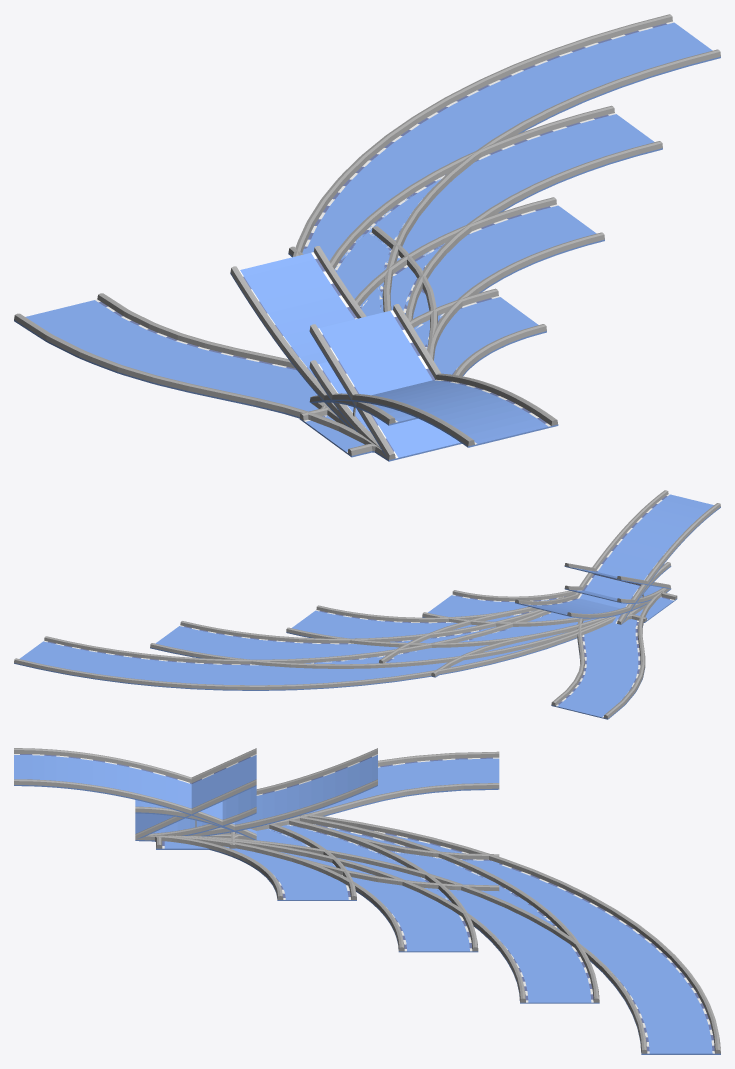
Rendered from road.glb.
3 views of the same model, one above another, from view 1: azimuth 30°, elevation 25°; view 2: azimuth 150°, elevation 25°; view 3: azimuth 270°, elevation 25° (orthographic). The views are drawn at different scales.
Parts seen in each view (by area): view 1: TurnLong3, TurnLong2, TurnSLeft, TurnLong, Slope, SlopeUpLong, SlopeDownLong, TurnShort, TurnSRight, SlopeUp, IntersectionCross, SlopeDown; view 2: TurnLong3, TurnLong2, SlopeDownLong, TurnSLeft, TurnLong, TurnShort, TurnSRight, SlopeUpLong, SlopeUp, Slope; view 3: TurnLong3, TurnLong2, TurnLong, SlopeDownLong, TurnSLeft, SlopeUpLong, TurnShort, Slope, TurnSRight, SlopeUp, SlopeDown.
Boxes of the visible parts, x1,y1,x2,y2 form: TurnLong3: (293, 14, 720, 460); TurnLong2: (329, 105, 662, 458); TurnSLeft: (14, 293, 388, 461); TurnLong: (354, 197, 604, 461); Slope: (309, 304, 459, 459); SlopeUpLong: (230, 246, 366, 430); SlopeDownLong: (309, 373, 558, 447); TurnShort: (369, 288, 546, 460); TurnSRight: (288, 226, 437, 360); SlopeUp: (309, 360, 380, 448); IntersectionCross: (299, 402, 376, 457); SlopeDown: (310, 401, 417, 425); TurnLong3: (14, 610, 615, 690); TurnLong2: (150, 609, 612, 668); SlopeDownLong: (574, 490, 720, 624); TurnSLeft: (551, 588, 671, 719); TurnLong: (286, 593, 599, 647); TurnShort: (422, 590, 593, 626); TurnSRight: (379, 606, 606, 677); SlopeUpLong: (515, 594, 649, 618); SlopeUp: (564, 585, 665, 603); Slope: (564, 563, 670, 588); TurnLong3: (189, 814, 720, 1054); TurnLong2: (182, 816, 599, 1003); TurnLong: (168, 819, 478, 952); SlopeDownLong: (14, 748, 256, 839); TurnSLeft: (223, 751, 499, 833); SlopeUpLong: (188, 748, 377, 836); TurnShort: (151, 823, 356, 900); Slope: (135, 748, 256, 839); TurnSRight: (135, 819, 499, 890); SlopeUp: (147, 786, 256, 835); SlopeDown: (135, 800, 255, 839).
Size of the model in its own units: 117 by 10.94 by 117.
